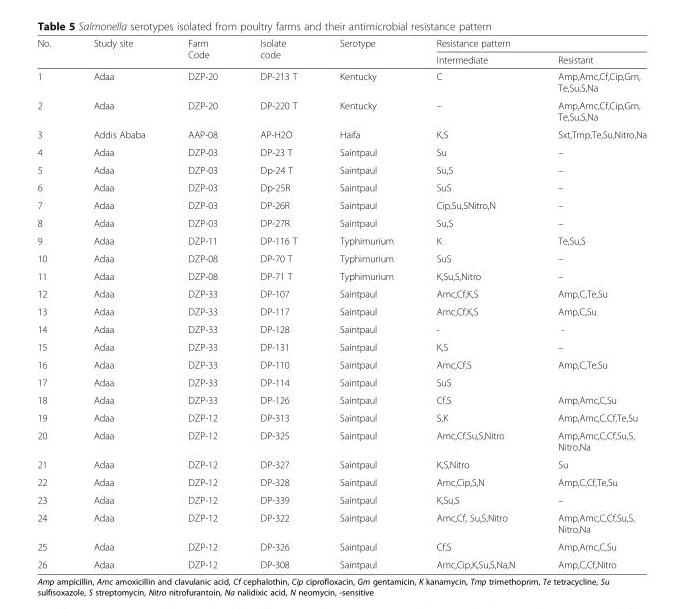table: (36, 37, 646, 569)
table column: (414, 37, 535, 569), (535, 37, 646, 569), (317, 37, 414, 569), (71, 37, 165, 569), (238, 37, 317, 569), (165, 37, 238, 569), (36, 37, 71, 569)
table column header: (36, 37, 646, 67)
table row: (36, 67, 646, 96), (36, 96, 646, 125), (36, 426, 646, 455), (36, 508, 646, 537), (36, 142, 646, 160), (36, 160, 646, 178), (36, 178, 646, 196), (36, 213, 646, 231), (36, 231, 646, 249), (36, 266, 646, 284), (36, 284, 646, 302), (36, 302, 646, 320), (36, 337, 646, 355), (36, 355, 646, 373), (36, 390, 646, 408), (36, 408, 646, 426), (36, 455, 646, 473), (36, 490, 646, 508), (36, 537, 646, 555), (36, 125, 646, 142), (36, 196, 646, 213), (36, 249, 646, 266), (36, 320, 646, 337), (36, 373, 646, 390), (36, 473, 646, 490), (36, 51, 646, 67), (36, 37, 646, 51), (36, 555, 646, 569)
table spanning cell: (414, 37, 646, 51), (317, 37, 414, 67), (71, 37, 165, 67), (238, 37, 317, 67), (165, 37, 238, 67), (36, 37, 71, 67)
